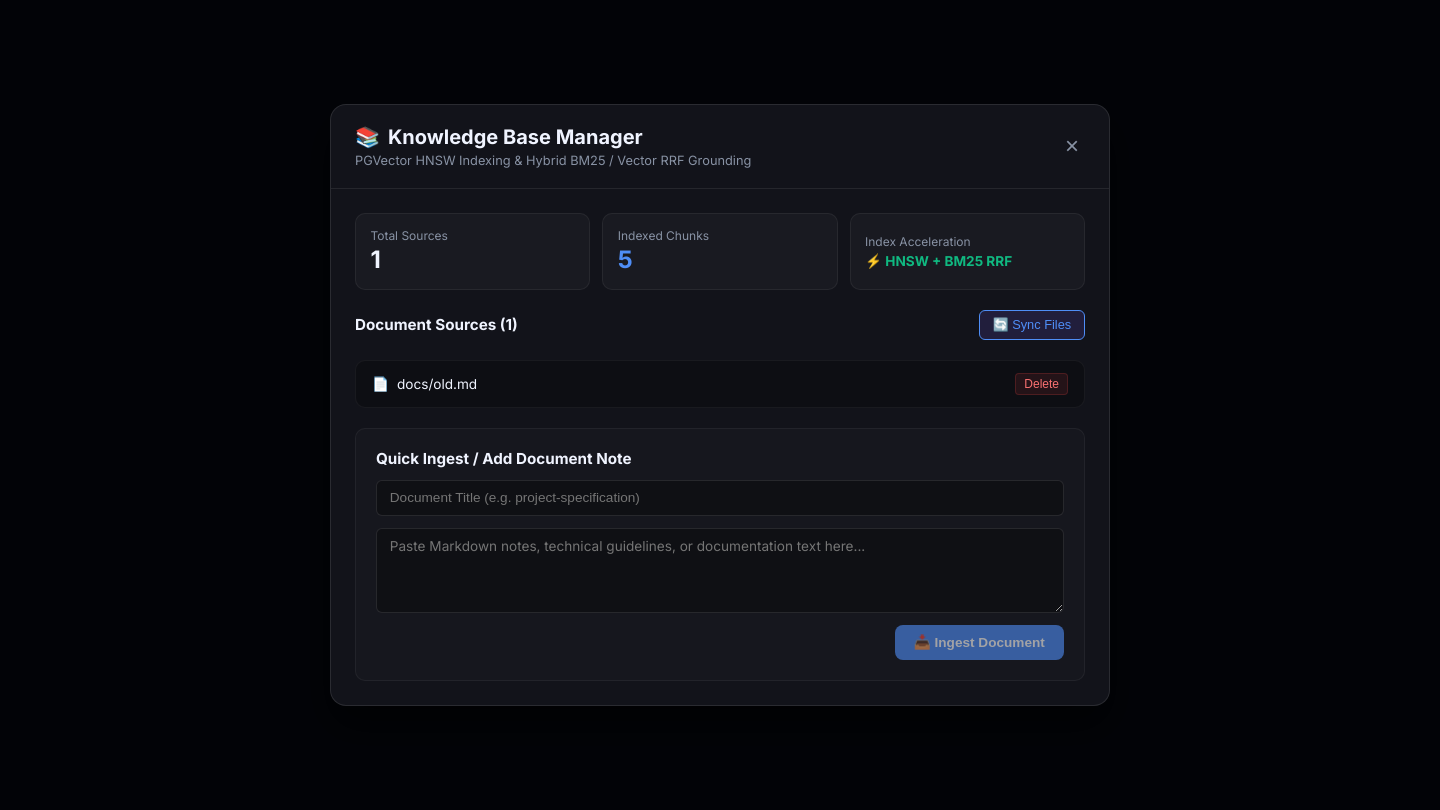
Scenario: KnowledgeBaseModal Component › deletes document source when delete button clicked
Expected: the text "docs/old.md" is shown, x1=397 y1=376 x2=477 y2=392
Click the button with aria-label "Delete docs/old.md".
click(1042, 384)  # box x1=1015 y1=372 x2=1068 y2=394
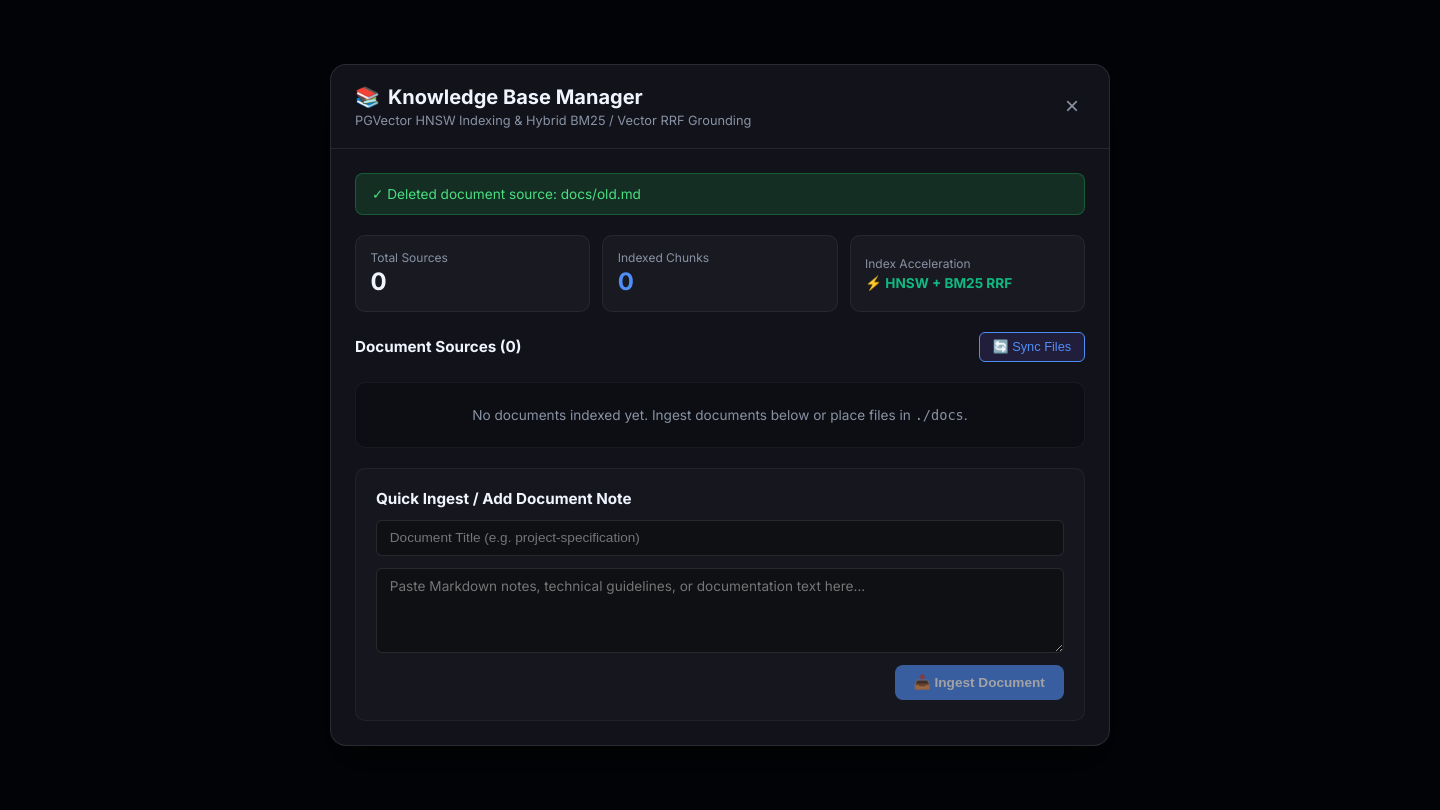
Now the text "✓ Deleted document source: docs/old.md" is shown, box x1=355 y1=173 x2=1085 y2=215
